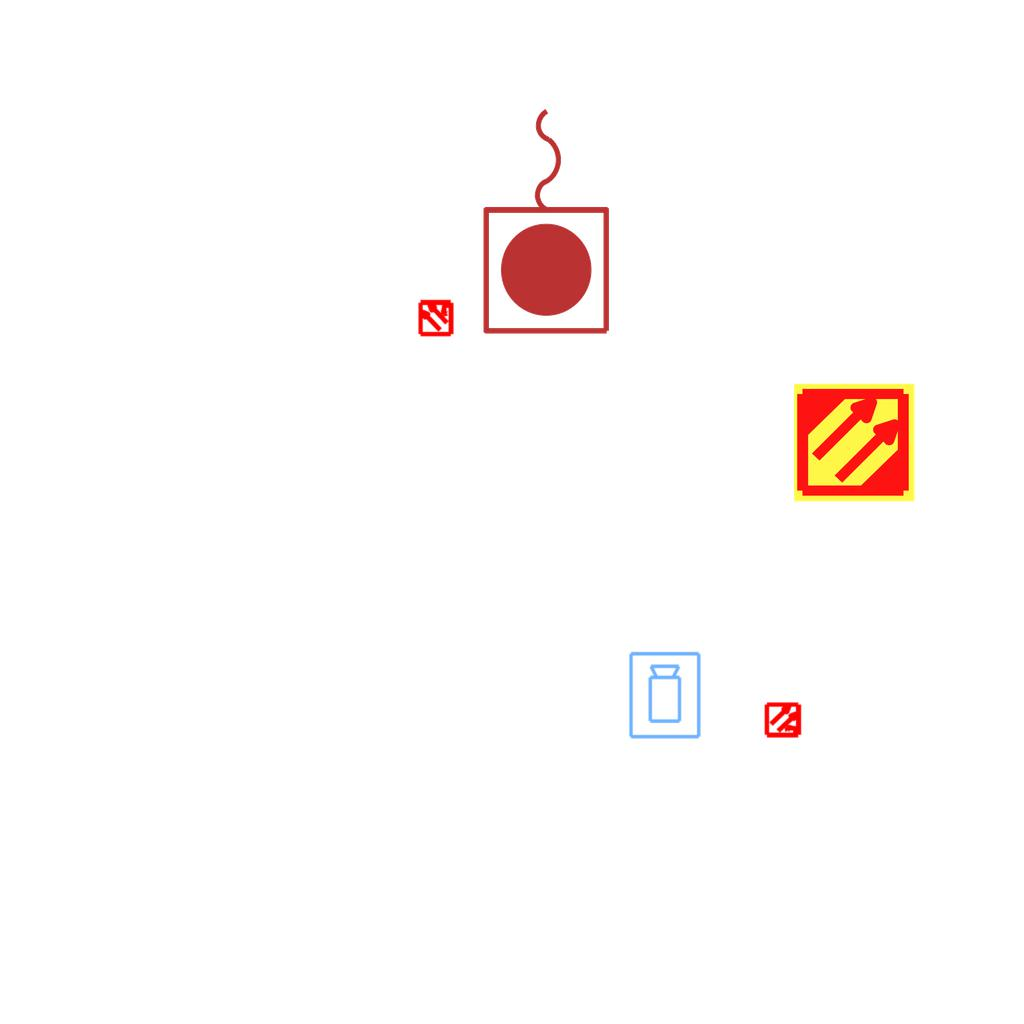ASR_Ansaugrauchmelder: (792, 380, 917, 505)
KFO_Kamera_mit_Festobjektiv: (627, 650, 704, 741)
OT_Multisensormelder_(Kombination_RMO_WMD): (756, 692, 812, 748), (408, 289, 464, 345)
Zugtaster: (476, 98, 620, 342)
